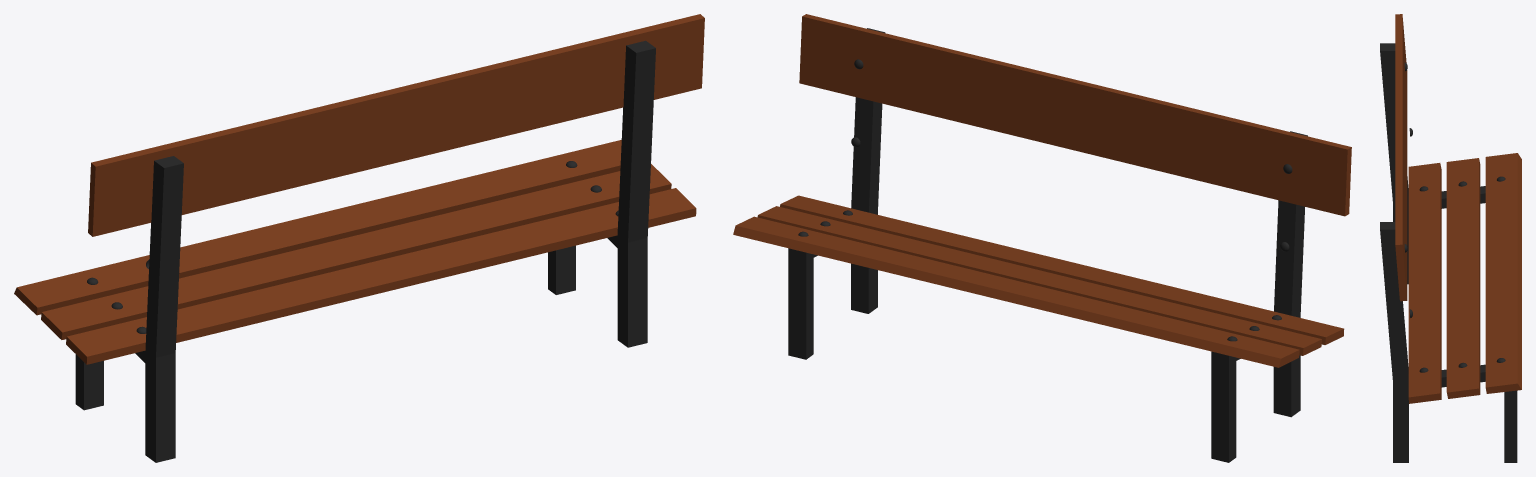
The model's file is banca.fbx.
3 renders of one model, left to right at view 1: azimuth 30°, elevation 25°; view 2: azimuth 150°, elevation 25°; view 3: azimuth 270°, elevation 25°, orthographic. The views are drawn at different scales.
Parts seen in each view (by area): view 1: Cube.001; view 2: Cube.001; view 3: Cube.001.
Part boxes in pixels (x1=…): Cube.001: x1=14, y1=14, x2=704, y2=462; Cube.001: x1=733, y1=14, x2=1351, y2=462; Cube.001: x1=1380, y1=14, x2=1521, y2=462.
Size of the model in its own units: 282 by 137 by 73.23.
1 material, 1 textured.
